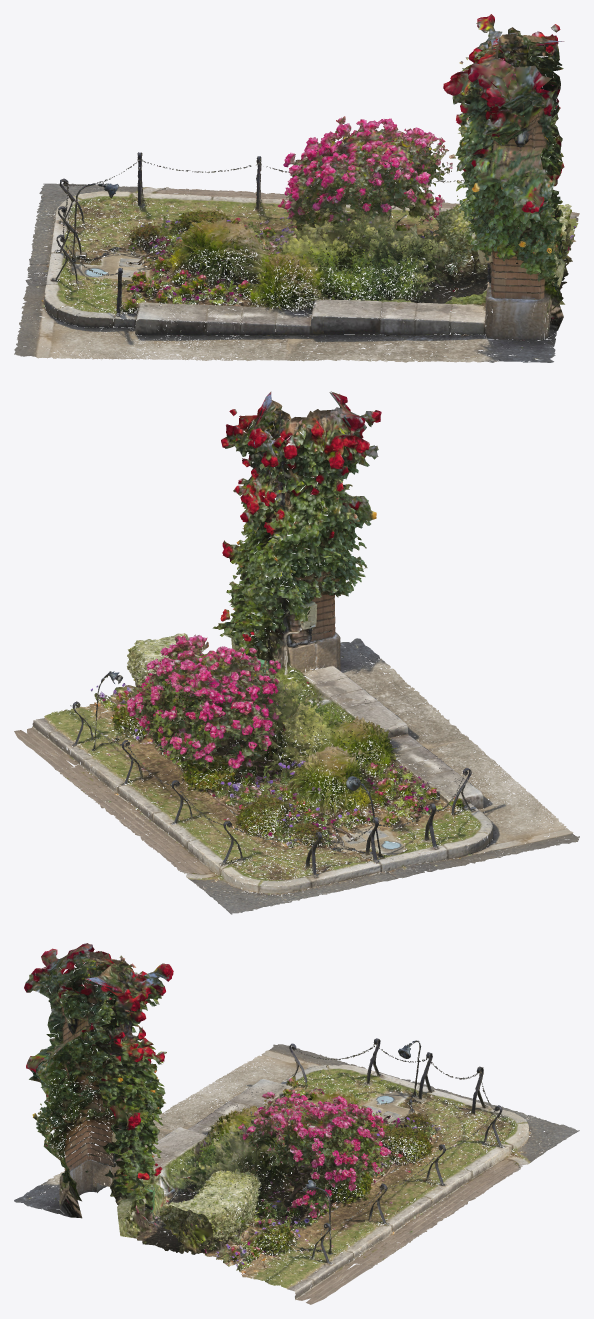
The model's file is jardin.glb.
3 renders of one model, top to bottom at view 1: azimuth 30°, elevation 25°; view 2: azimuth 150°, elevation 25°; view 3: azimuth 270°, elevation 25°, orthographic. The views are drawn at different scales.
Visible parts, largest first — view 1: Object_2.001; view 2: Object_2.001; view 3: Object_2.001.
Part boxes in pixels (x1=…): Object_2.001: x1=14, y1=14, x2=579, y2=362; Object_2.001: x1=14, y1=391, x2=579, y2=914; Object_2.001: x1=14, y1=943, x2=579, y2=1304.
Size of the model in its own units: 1.88 by 0.9399 by 1.8.
1 material, 1 textured.
